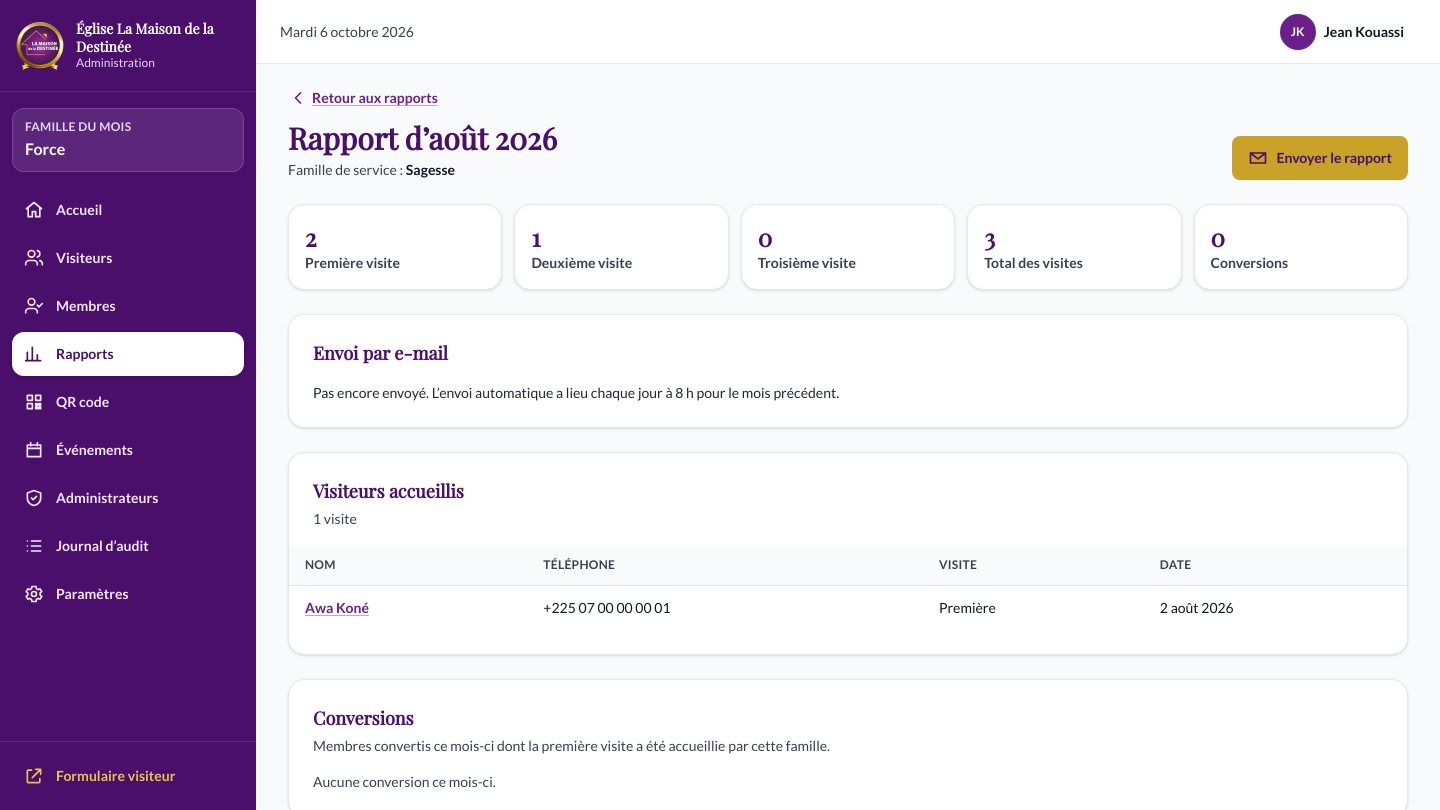
Test: rapports › explique l’absence de destinataires (422 no_recipients)
Step 1. Click the button "Envoyer le rapport" → (1320, 158), box [1232,136,1408,180]
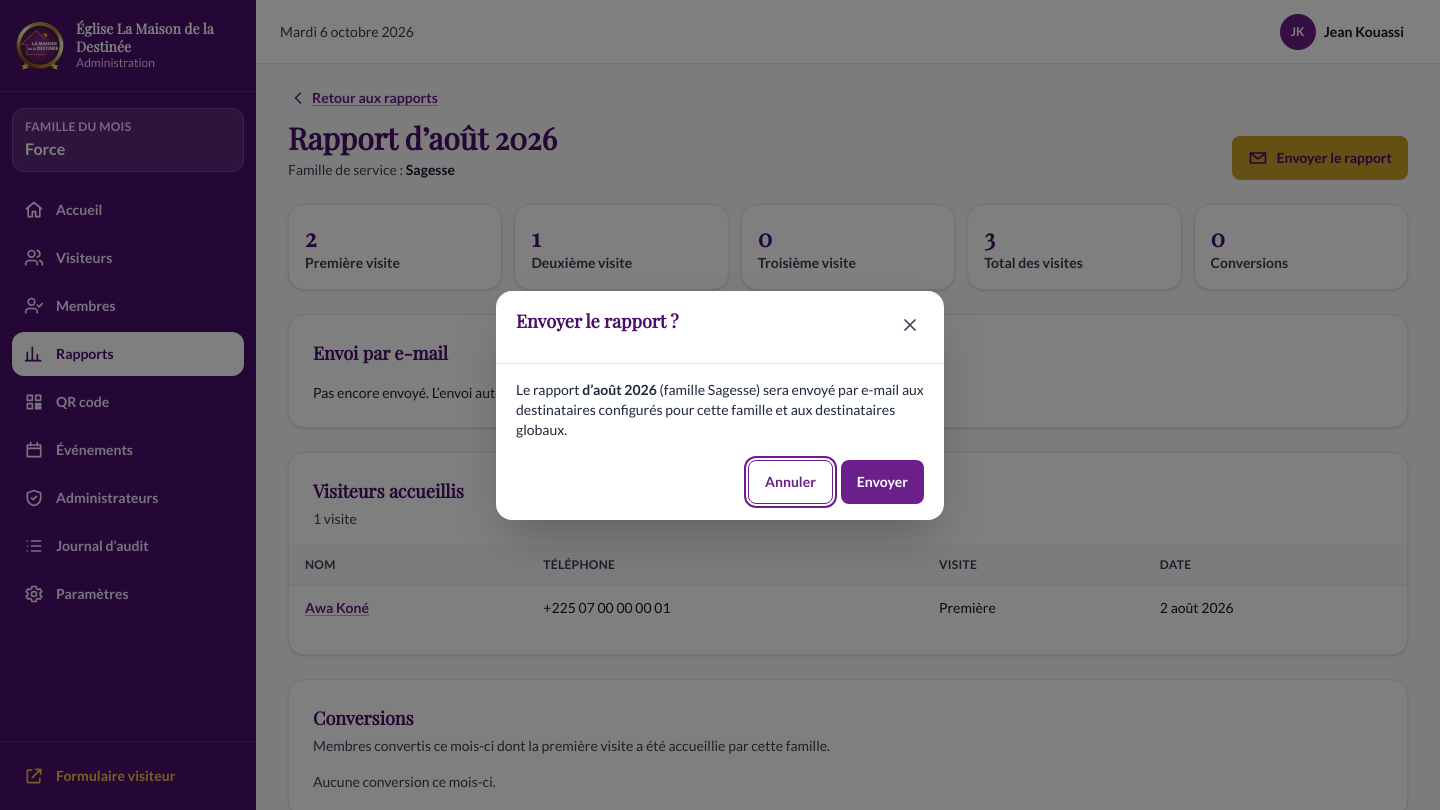
Step 2. Click the button "Envoyer" → (882, 482), box [841,460,924,504]
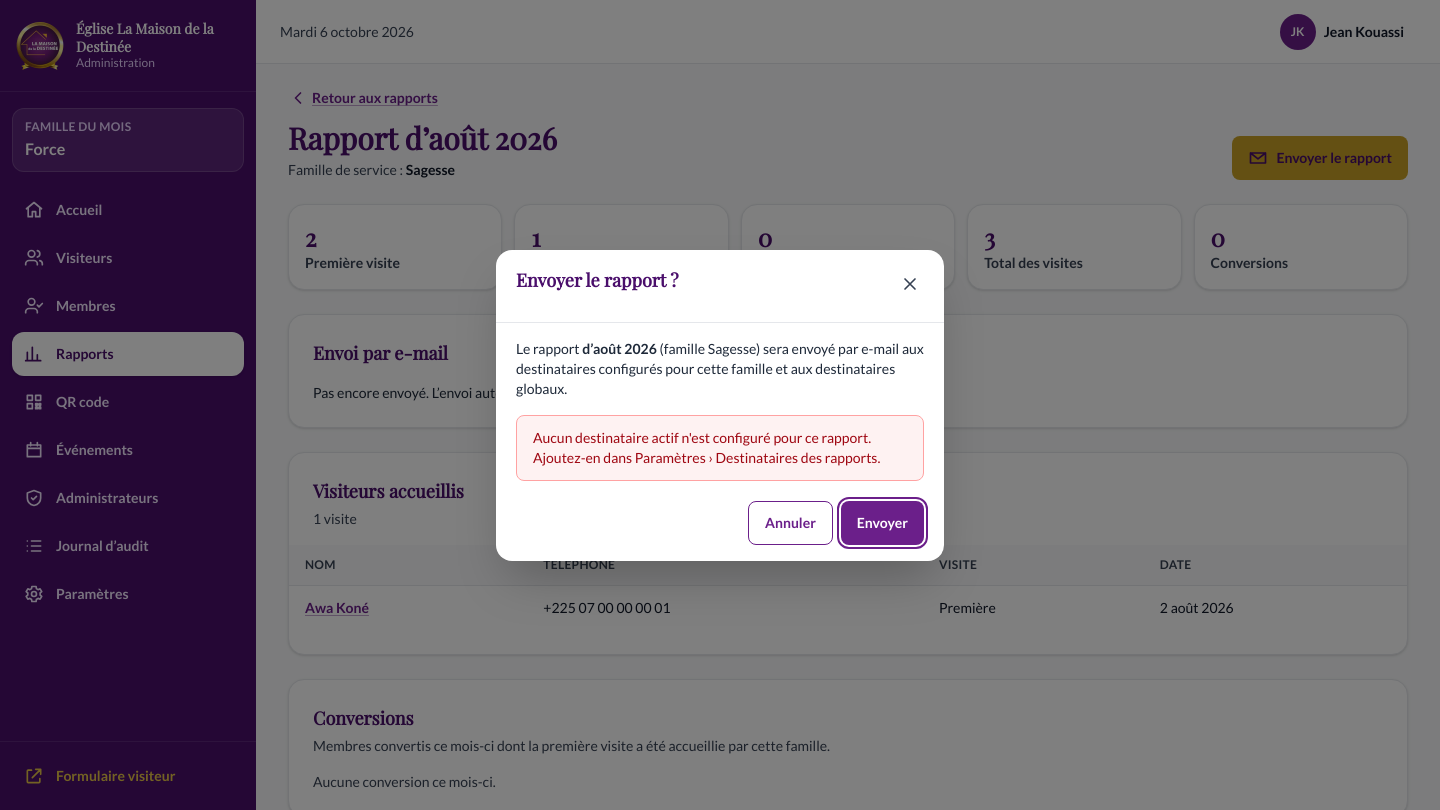
Expected: the message shows "Aucun destinataire actif", [533,428,880,466]
